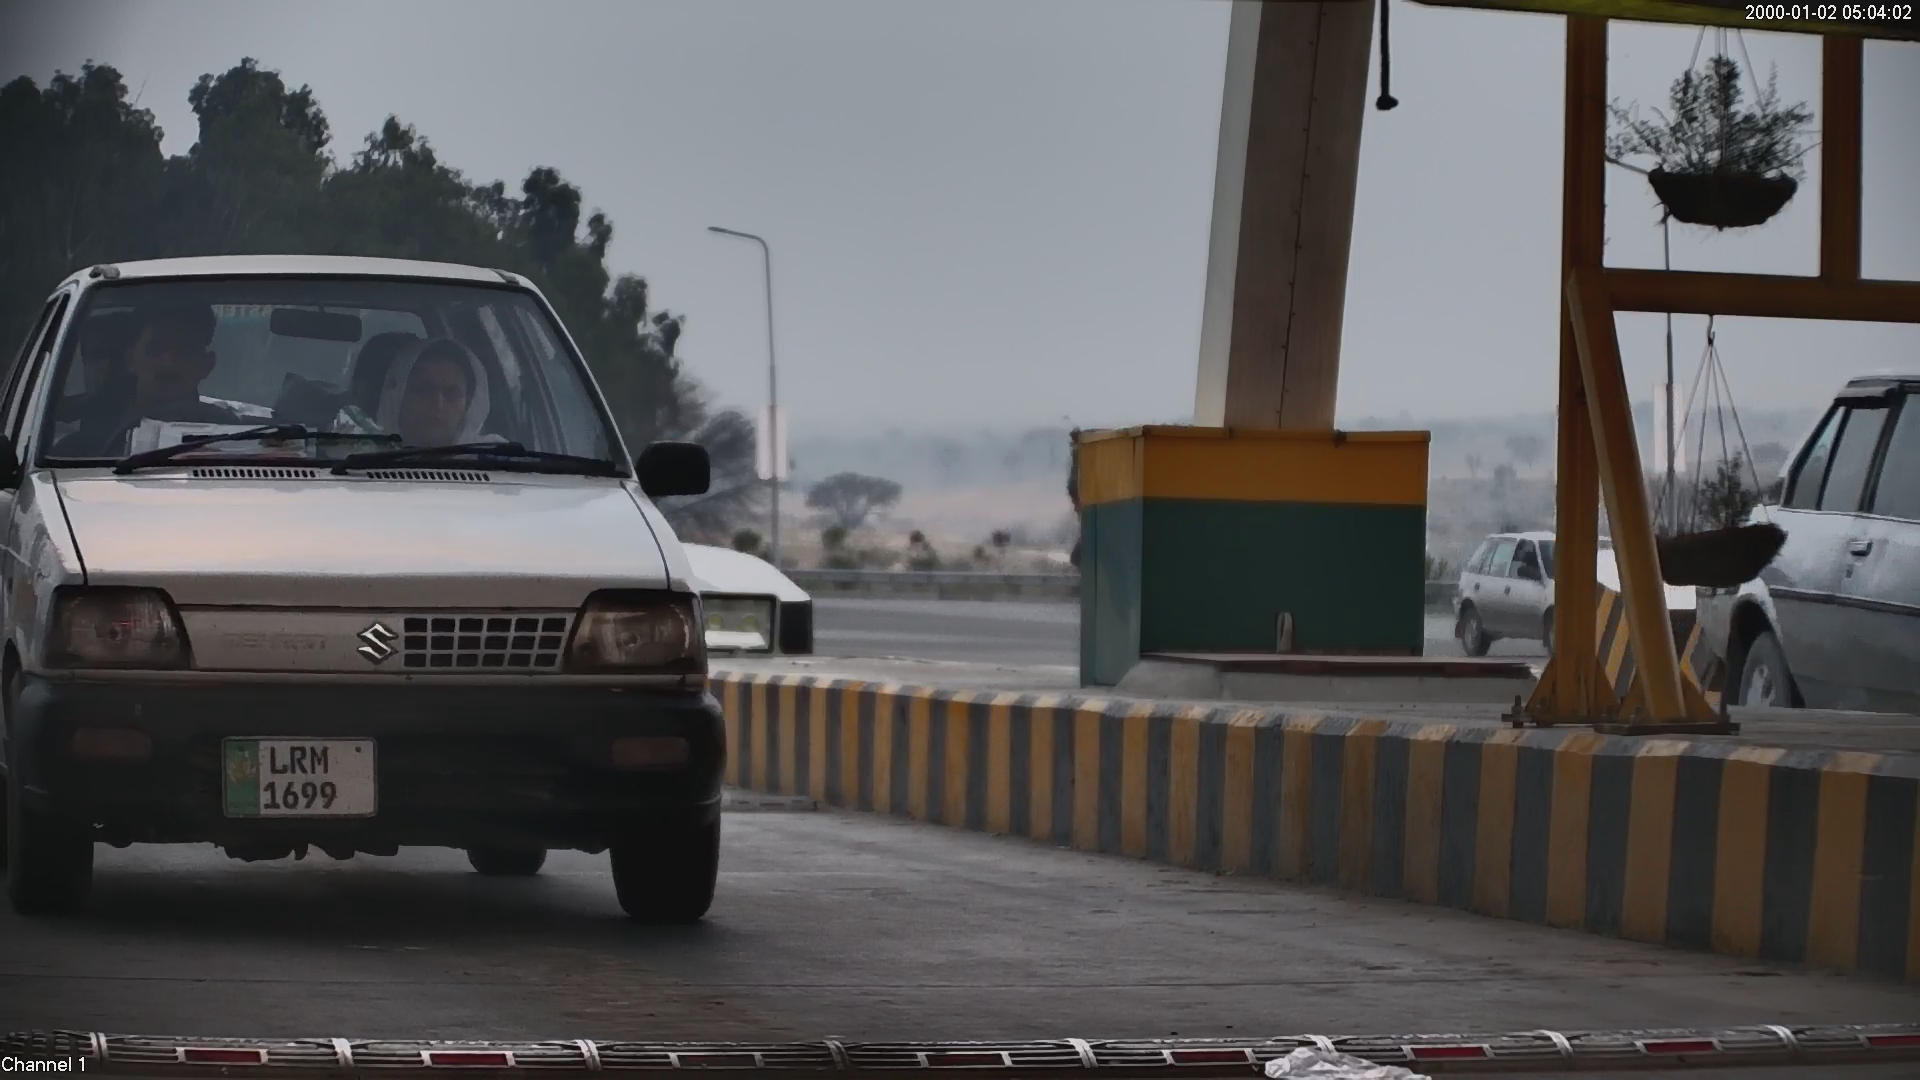Number_Plate: (196, 725, 394, 835)
